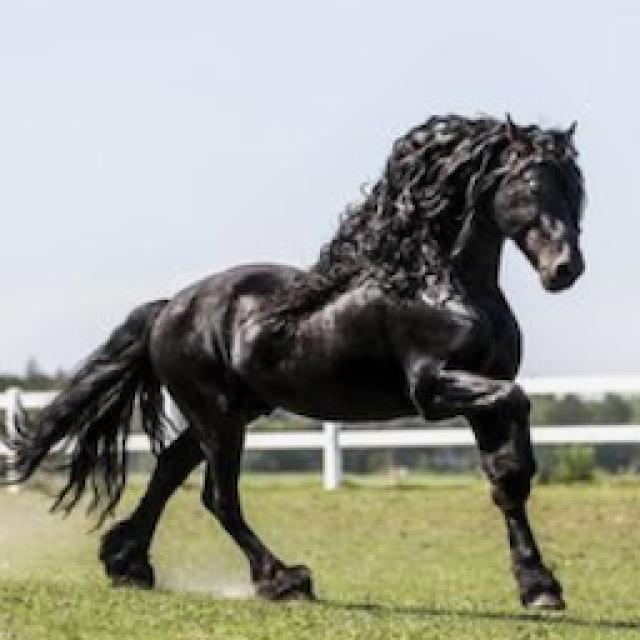Horse: (0, 102, 598, 618)
